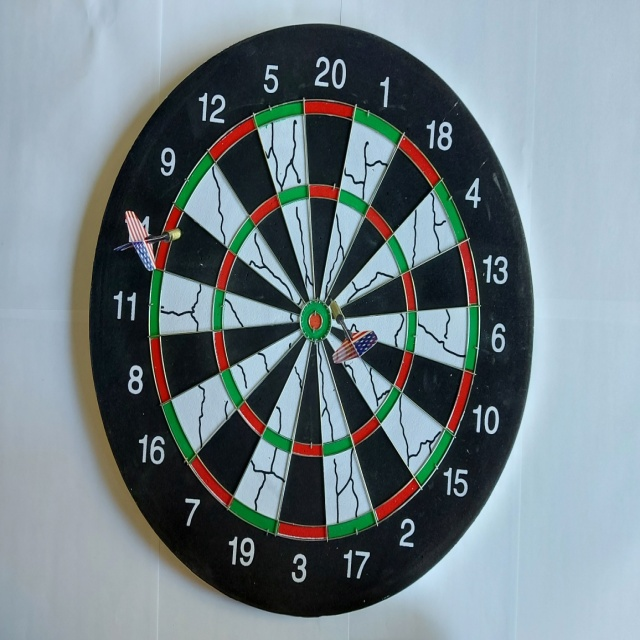Dart: (310, 285, 386, 383), (107, 198, 187, 278)
